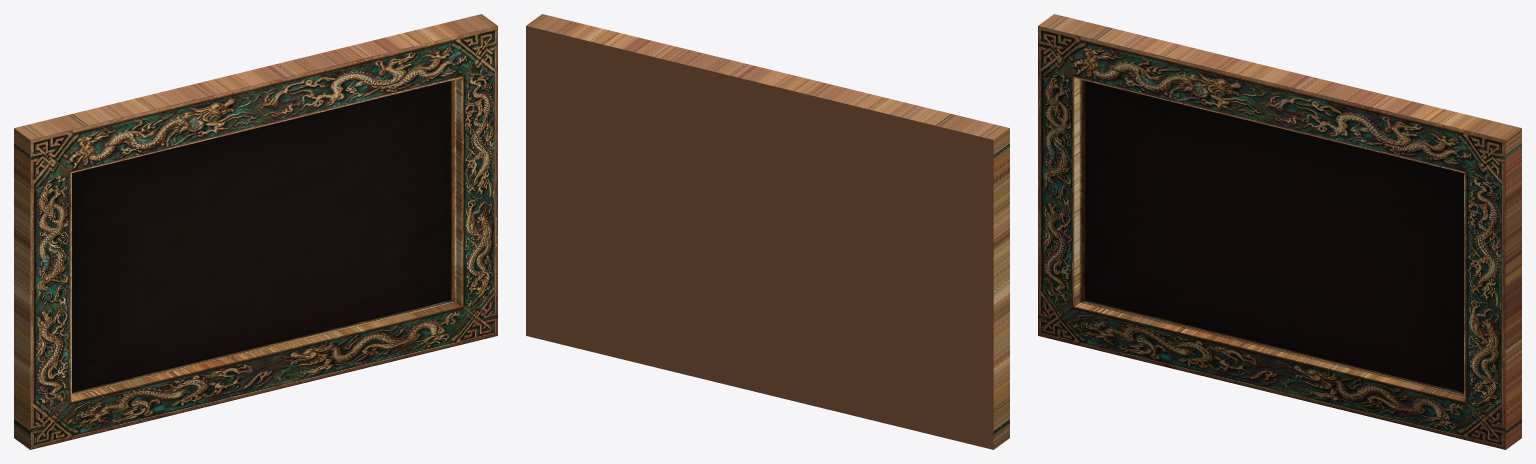
File: panel_intro.glb
The picture shows the model from 3 angles, left to right: view 1: azimuth 30°, elevation 25°; view 2: azimuth 150°, elevation 25°; view 3: azimuth 330°, elevation 25°; orthographic projection.
Parts seen in each view (by area): view 1: panel_intro; view 2: panel_intro; view 3: panel_intro.
Part boxes in pixels (box(x1,y1,x2,y2)): panel_intro: box(14, 14, 497, 449); panel_intro: box(526, 14, 1009, 449); panel_intro: box(1038, 14, 1521, 449).
Size of the model in its own units: 0.6 by 0.38 by 0.042.
1 material, 1 textured.
